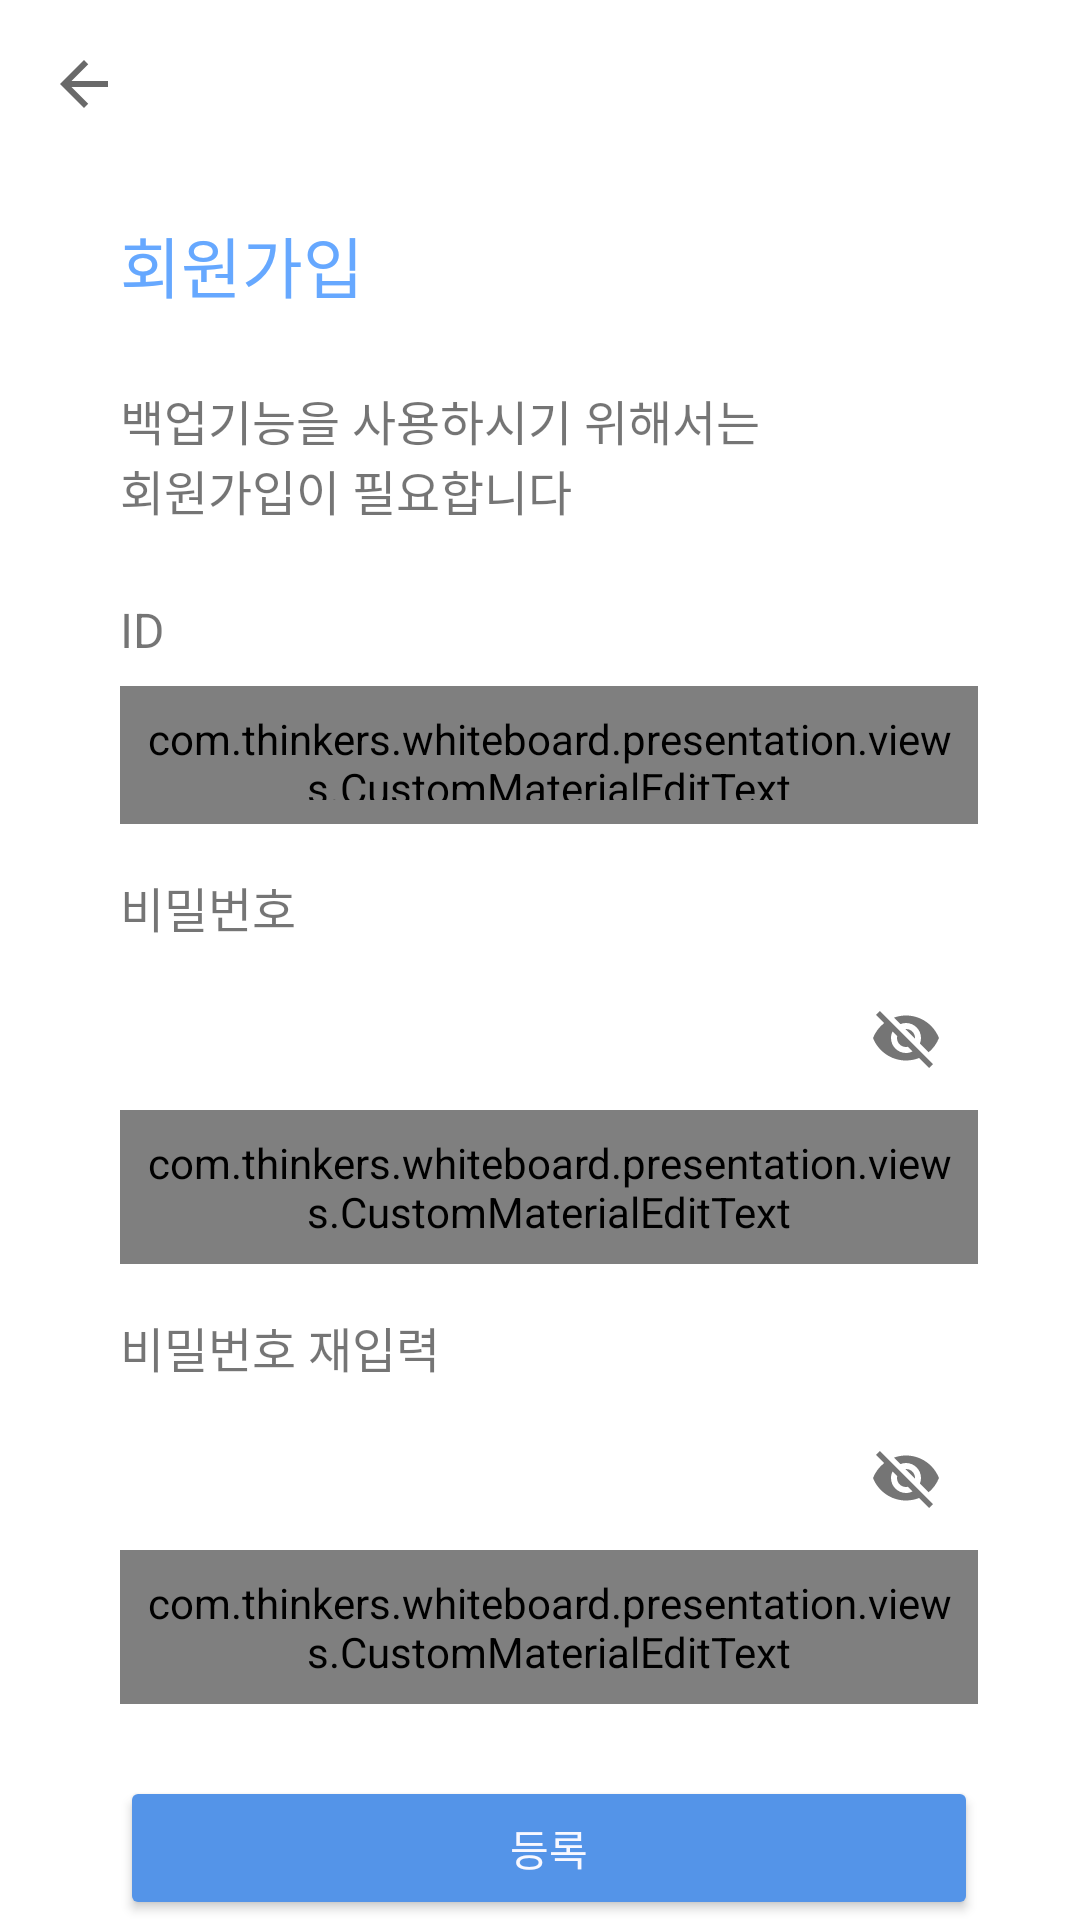

Named icons in this screenshot (1080×1920) and their centers, [x,y]:
appbar back: [84,84]
